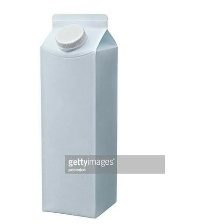carton: (38, 9, 124, 220)
